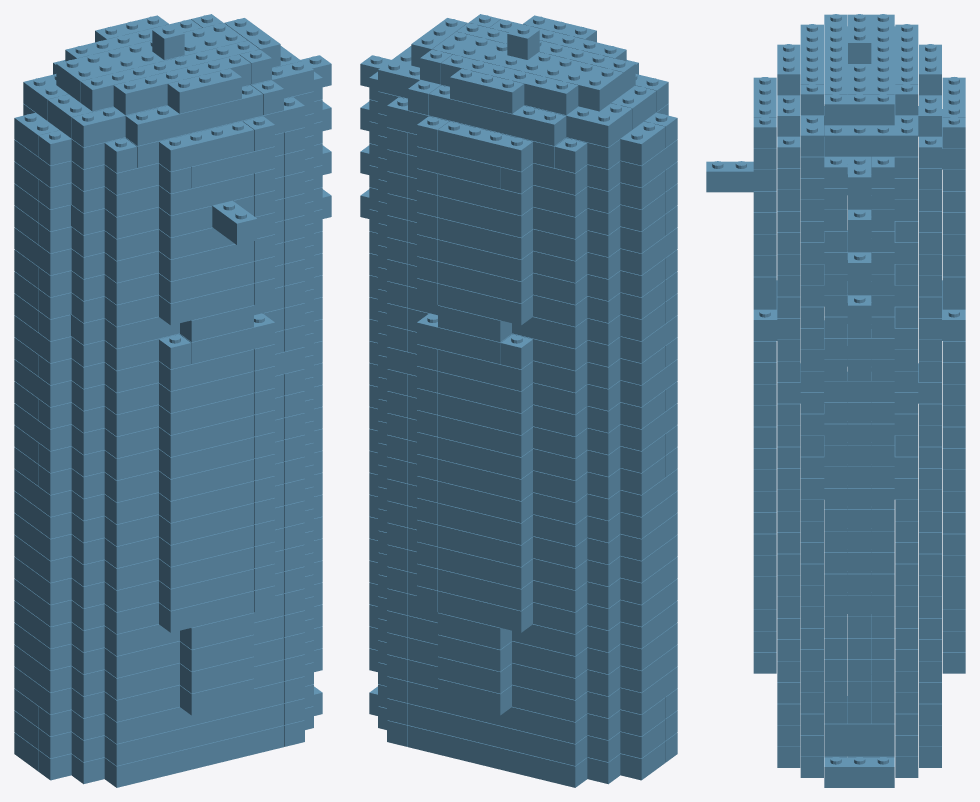
The model's file is 133_camera_L3.glb.
3 renders of one model, left to right at view 1: azimuth 30°, elevation 25°; view 2: azimuth 150°, elevation 25°; view 3: azimuth 270°, elevation 25°, orthographic. The views are drawn at different scales.
Bounding box in the file's own units: 13.98 × 32.13 × 10.98.
